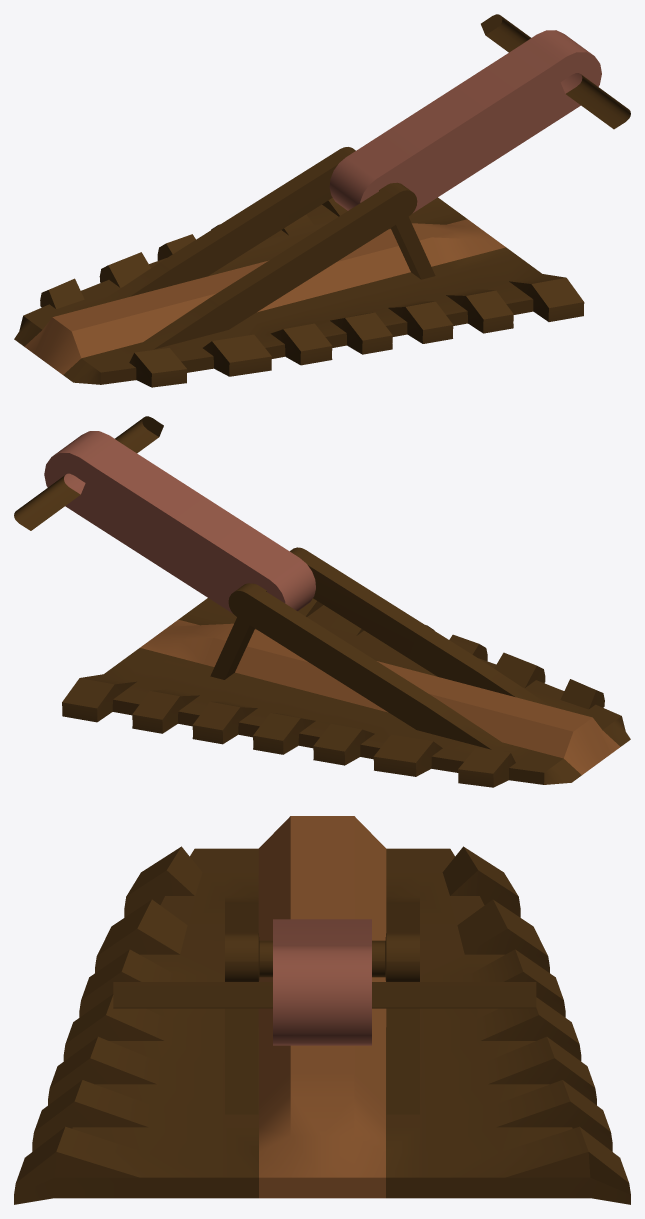
The model's file is Teen Poot Links voor.fbx.
The picture shows the model from 3 angles, top to bottom: view 1: azimuth 30°, elevation 25°; view 2: azimuth 150°, elevation 25°; view 3: azimuth 270°, elevation 25°; orthographic projection. The views are drawn at different scales.
Visible parts, largest first — view 1: Teen2.011; view 2: Teen2.011; view 3: Teen2.011.
Part boxes in pixels (x1,y1,x2,y2): Teen2.011: [14, 14, 630, 387]; Teen2.011: [14, 416, 630, 787]; Teen2.011: [14, 816, 630, 1204].
Size of the model in its own units: 973 by 331 by 582.
